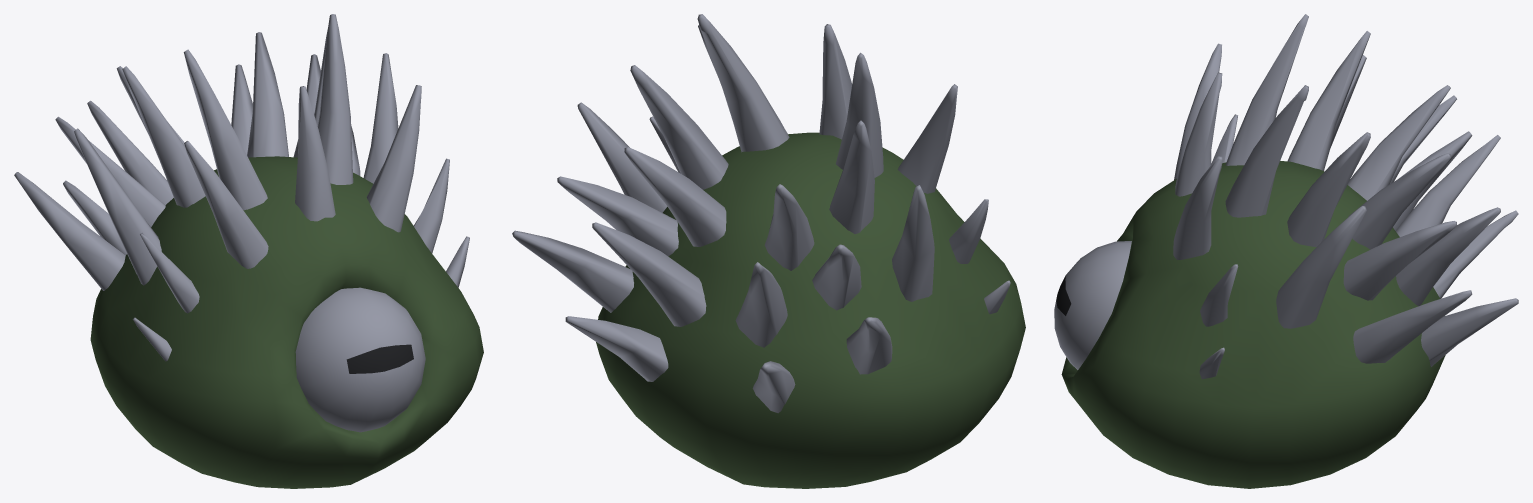
Rendered from cc0-spiky-blob-lod1.glb.
3 views of the same model, side by side, from view 1: azimuth 30°, elevation 25°; view 2: azimuth 150°, elevation 25°; view 3: azimuth 270°, elevation 25° (orthographic). The views are drawn at different scales.
Visible parts, largest first — view 1: part_4; view 2: part_4; view 3: part_4.
Boxes of the visible parts, x1,y1,x2,y2 form: part_4: [14, 14, 483, 488]; part_4: [512, 14, 1025, 488]; part_4: [1054, 14, 1518, 488].
Size of the model in its own units: 3.5 by 4.14 by 4.16.
Materials: 1 (1 with a texture image).
